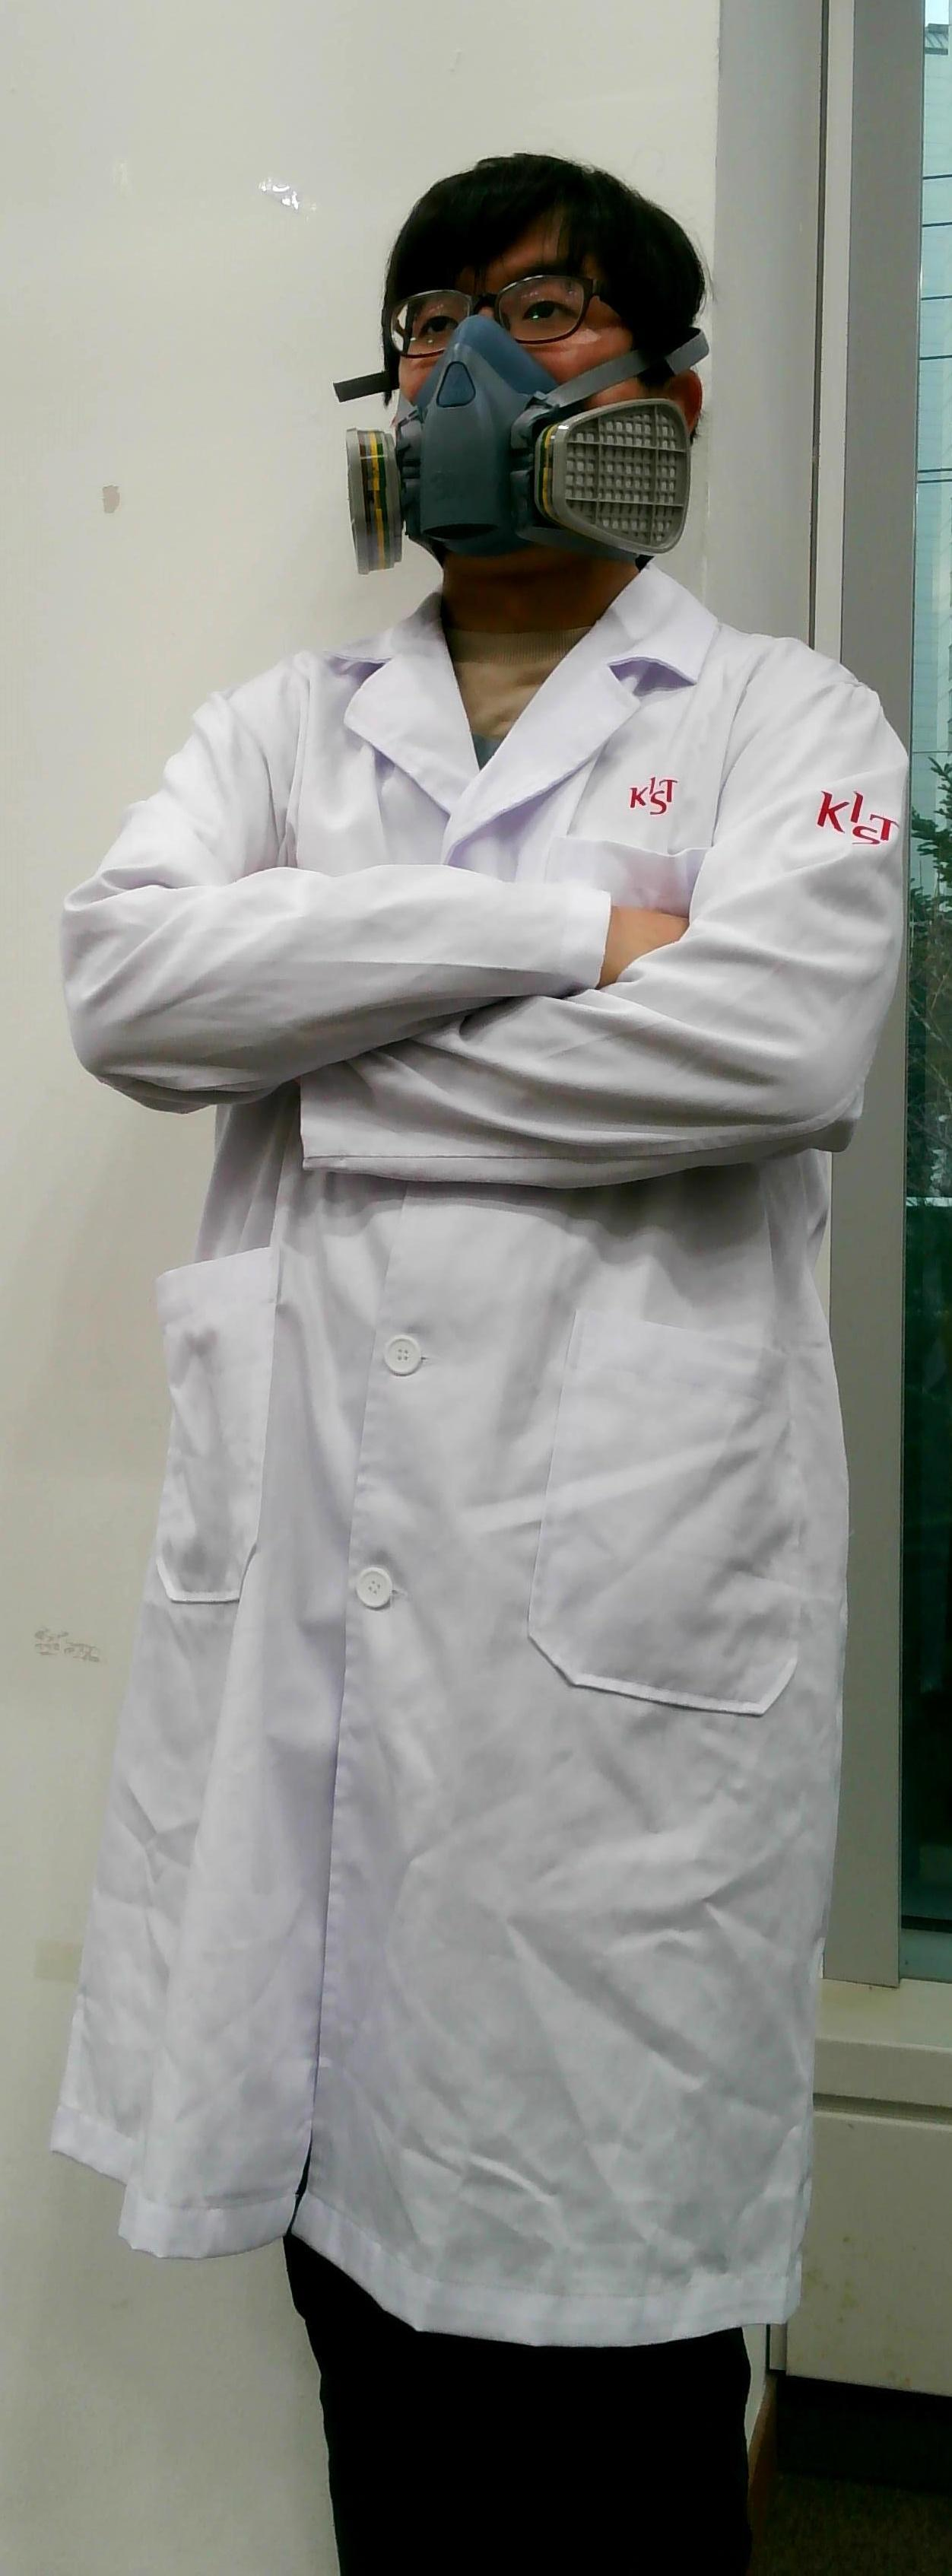lab_coat: (85, 710, 895, 2290)
